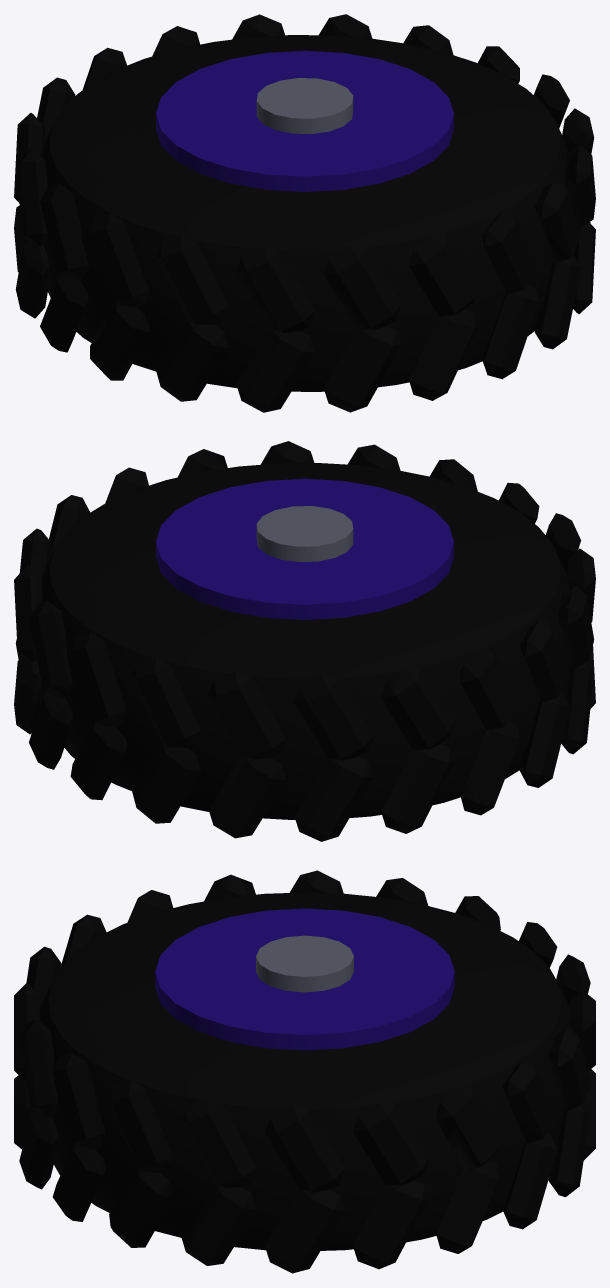
File: wheel.obj
3 renders of one model, top to bottom at view 1: azimuth 30°, elevation 25°; view 2: azimuth 150°, elevation 25°; view 3: azimuth 270°, elevation 25°, orthographic.
Parts seen in each view (by area): view 1: left_wheel; view 2: left_wheel; view 3: left_wheel.
Boxes of the visible parts, <box> form: left_wheel: <box>14,14,595,412</box>; left_wheel: <box>14,441,595,841</box>; left_wheel: <box>14,870,595,1273</box>.
Bounding box in the file's own units: 0.0684 × 0.03 × 0.0684.
